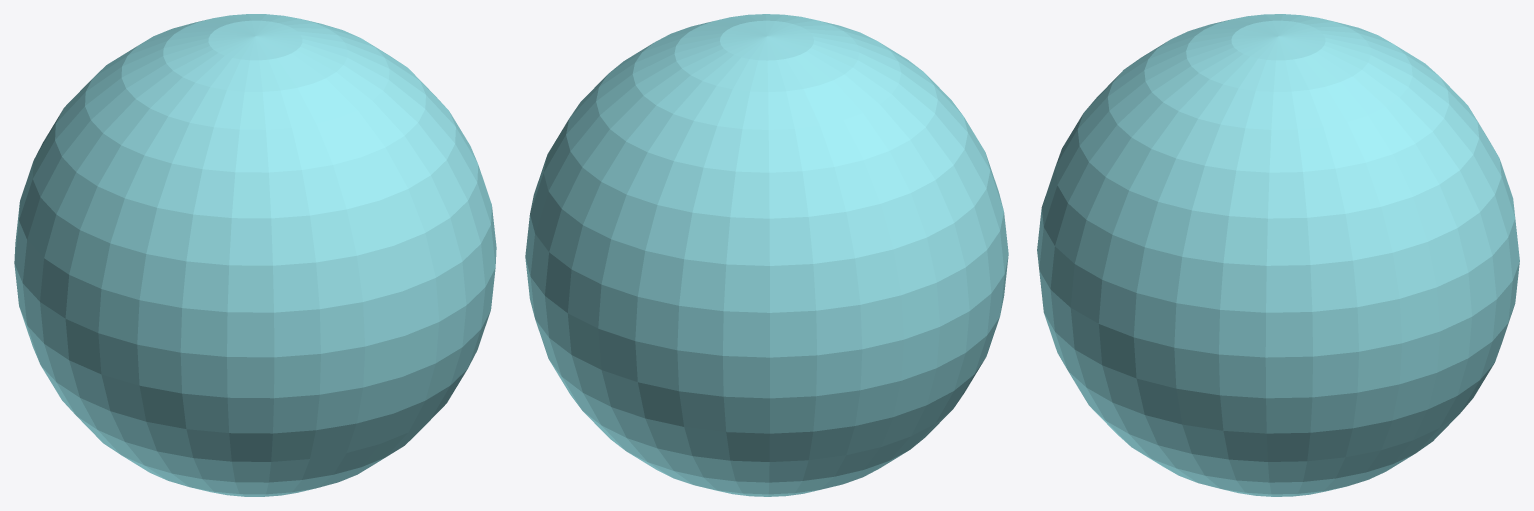
File: Sphere_result (2).glb
3 renders of one model, left to right at view 1: azimuth 30°, elevation 25°; view 2: azimuth 150°, elevation 25°; view 3: azimuth 270°, elevation 25°, orthographic.
Bounding box in the file's own units: 2 × 2 × 2.
